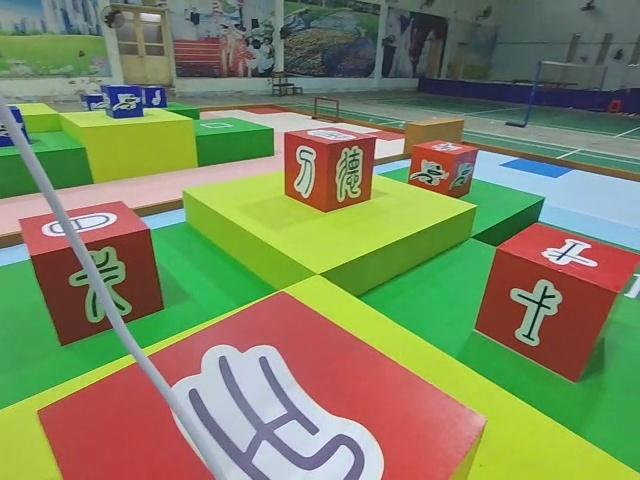R1: (407, 139, 478, 198)
R2 Fake: (35, 290, 488, 480), (21, 203, 165, 347), (283, 125, 376, 212)
R2 Real: (473, 218, 640, 385)
